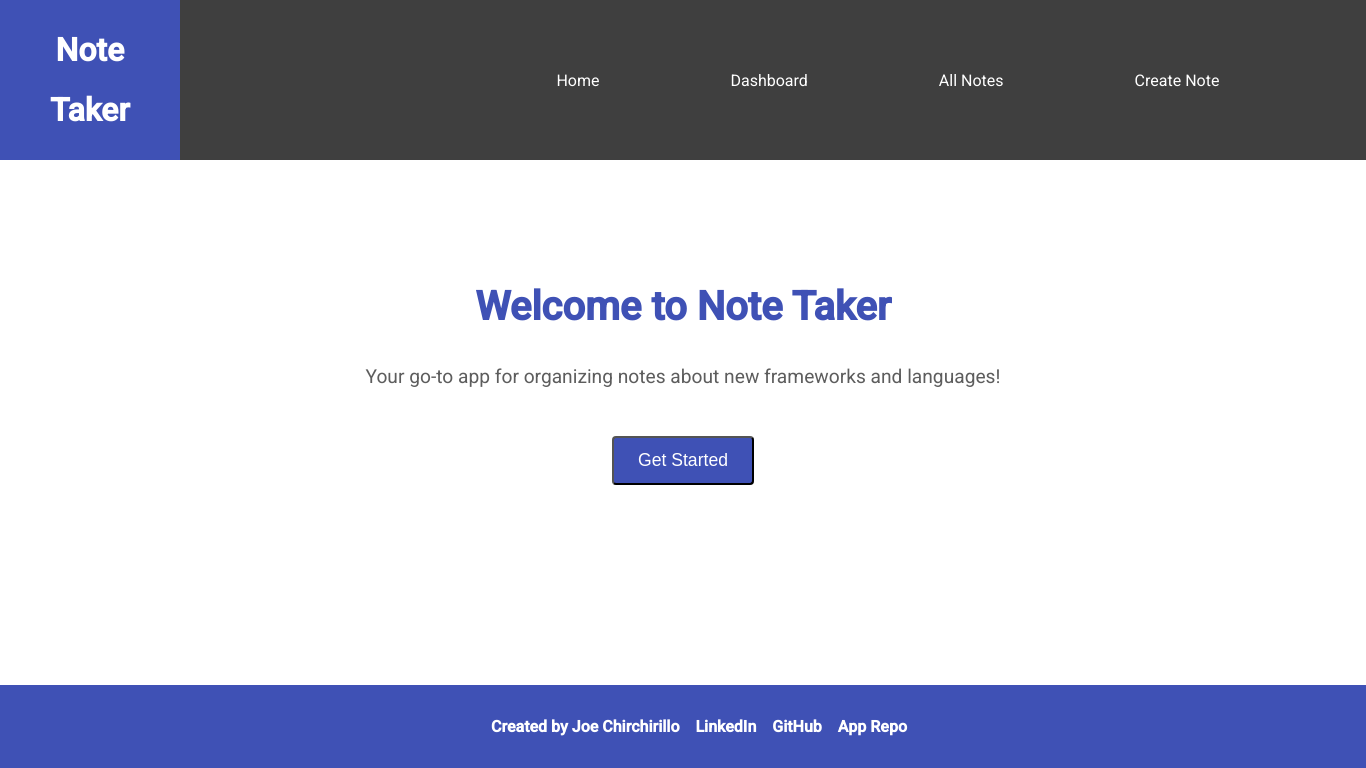
it: Landing Page › navigates to dashboard
Click the button with class "cta-button". click: (683, 461)
box: [612,436,754,485]
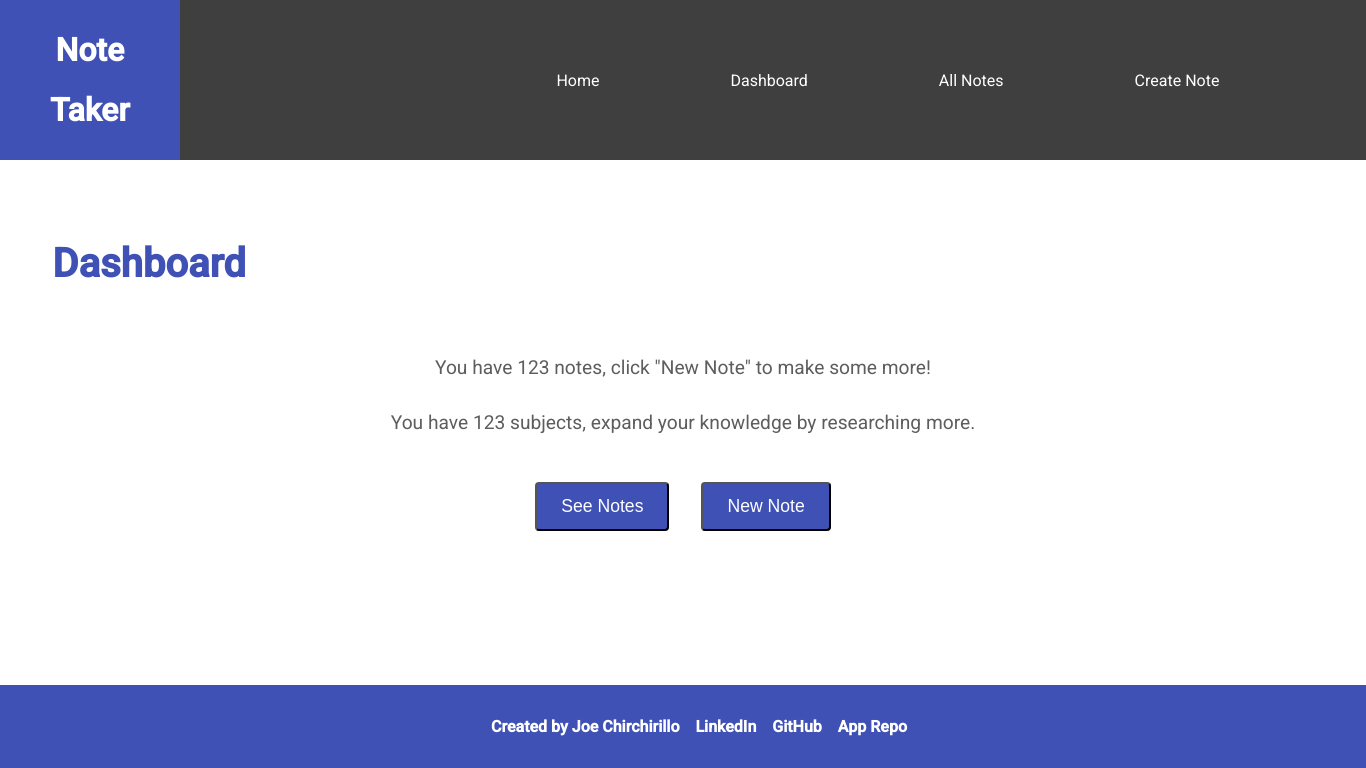
Result: the heading "Dashboard" is shown at [52,240,246,287]
